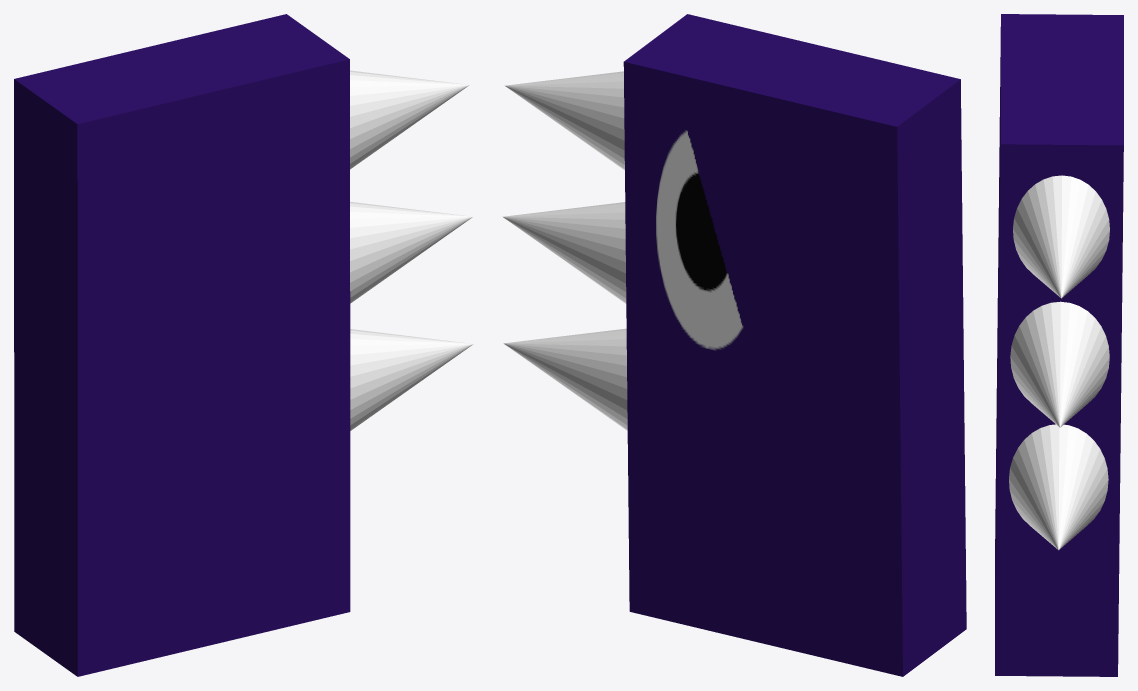
Rendered from sharkTop.obj.
3 renders of one model, left to right at view 1: azimuth 30°, elevation 25°; view 2: azimuth 150°, elevation 25°; view 3: azimuth 270°, elevation 25°, orthographic. The views are drawn at different scales.
Visible parts, largest first — view 1: 立方体; view 2: 立方体; view 3: 立方体.
Part boxes in pixels (x1=…): 立方体: x1=14, y1=14, x2=473, y2=676; 立方体: x1=502, y1=14, x2=966, y2=676; 立方体: x1=995, y1=14, x2=1123, y2=676.
Size of the model in its own units: 73.19 by 90 by 19.63.
Materials: 1 (1 with a texture image).
